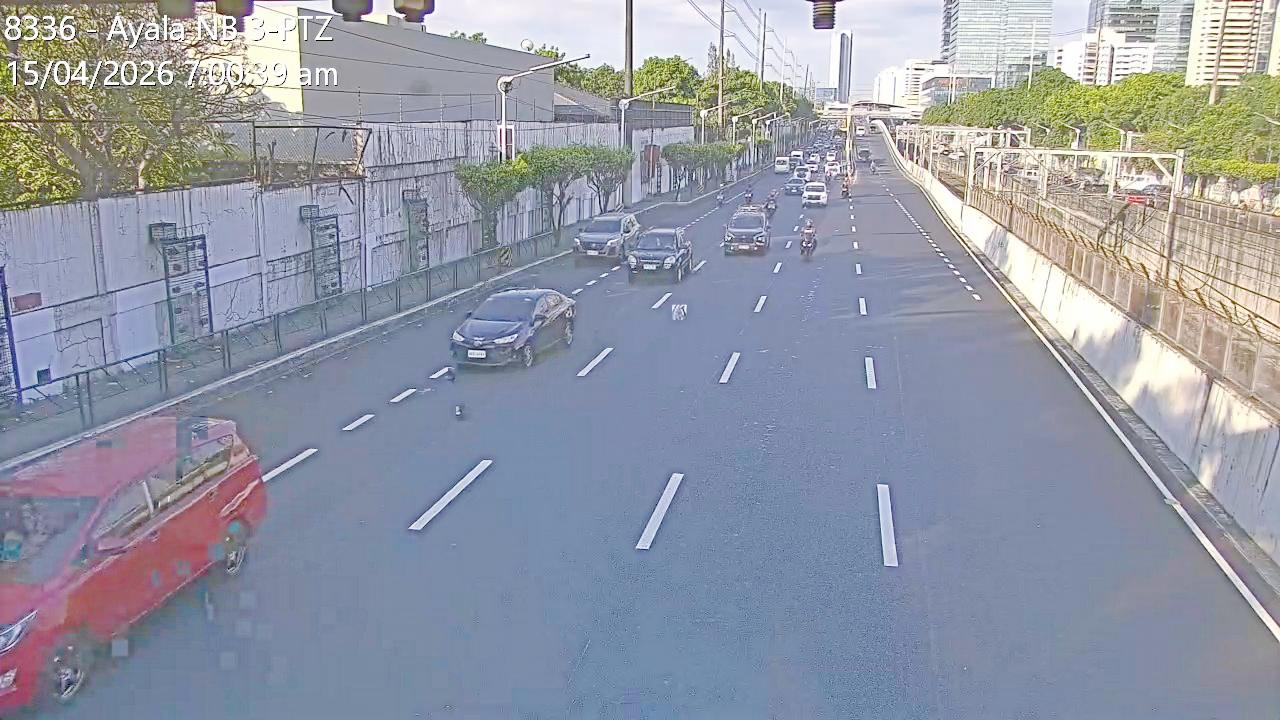Car: (0, 415, 266, 714), (451, 287, 578, 371), (571, 211, 642, 267), (625, 226, 693, 282), (720, 209, 770, 257), (1115, 175, 1170, 202), (801, 180, 829, 207), (784, 173, 807, 195)
Motor: (799, 219, 818, 252), (842, 178, 854, 197)
Not Accident: (568, 202, 700, 288), (772, 164, 840, 214)
